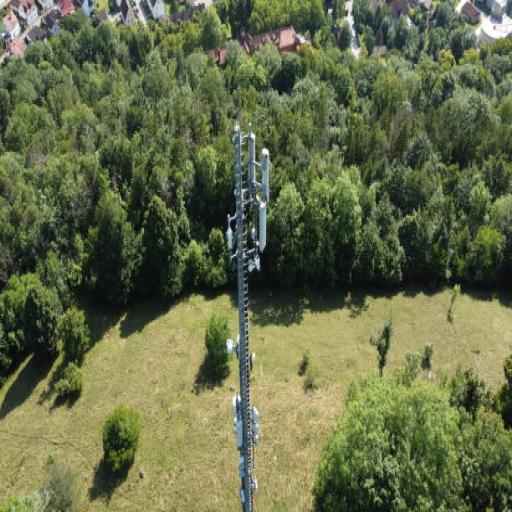monopole_tower: (226, 117, 268, 512)
